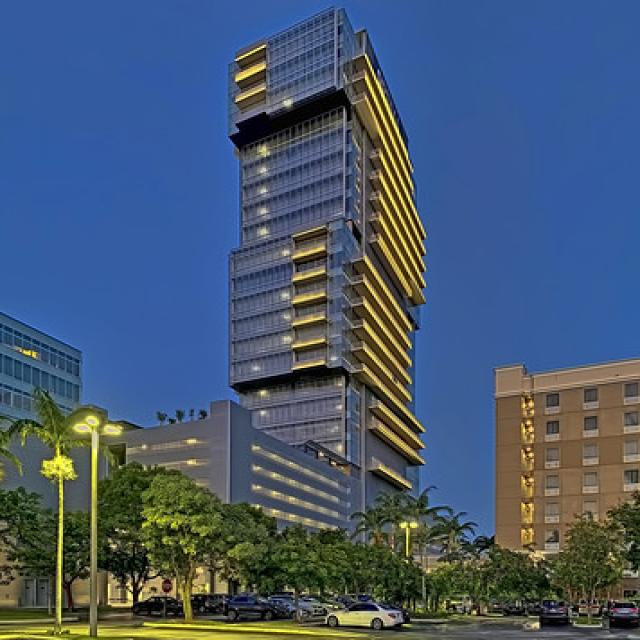building: (209, 0, 433, 576)
